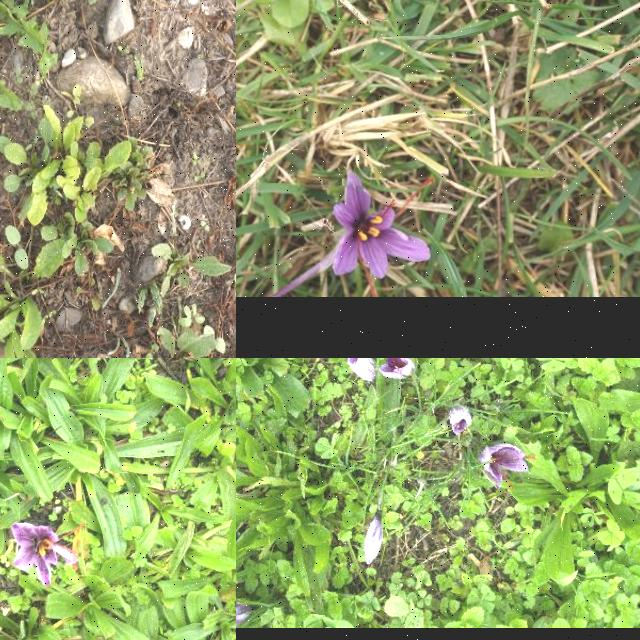flower: (332, 172, 436, 298), (12, 522, 76, 588), (481, 444, 539, 490), (364, 514, 384, 566), (380, 358, 415, 380), (348, 358, 377, 384), (450, 405, 472, 435), (236, 602, 256, 628)
